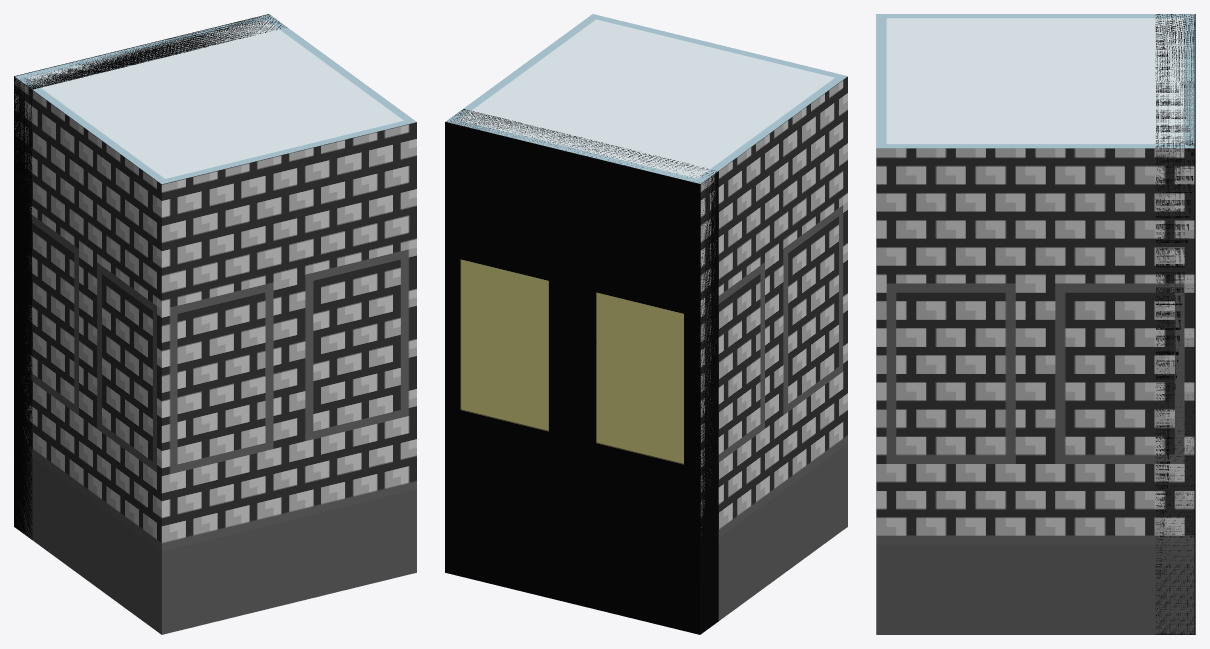
Rendered from modelUS.fbx.
The picture shows the model from 3 angles, left to right: view 1: azimuth 30°, elevation 25°; view 2: azimuth 150°, elevation 25°; view 3: azimuth 270°, elevation 25°; orthographic projection. The views are drawn at different scales.
Visible parts, largest first — view 1: cube, cube_1; view 2: cube_1, cube; view 3: cube, cube_1.
Part boxes in pixels (x1,y1,x2,y2): cube: (14, 14, 416, 634); cube_1: (14, 14, 287, 539); cube_1: (445, 109, 718, 634); cube: (446, 14, 847, 620); cube: (876, 14, 1194, 634); cube_1: (1155, 14, 1195, 634).
Size of the model in its own units: 50 by 84.38 by 50.16.
2 materials, 2 textured.
